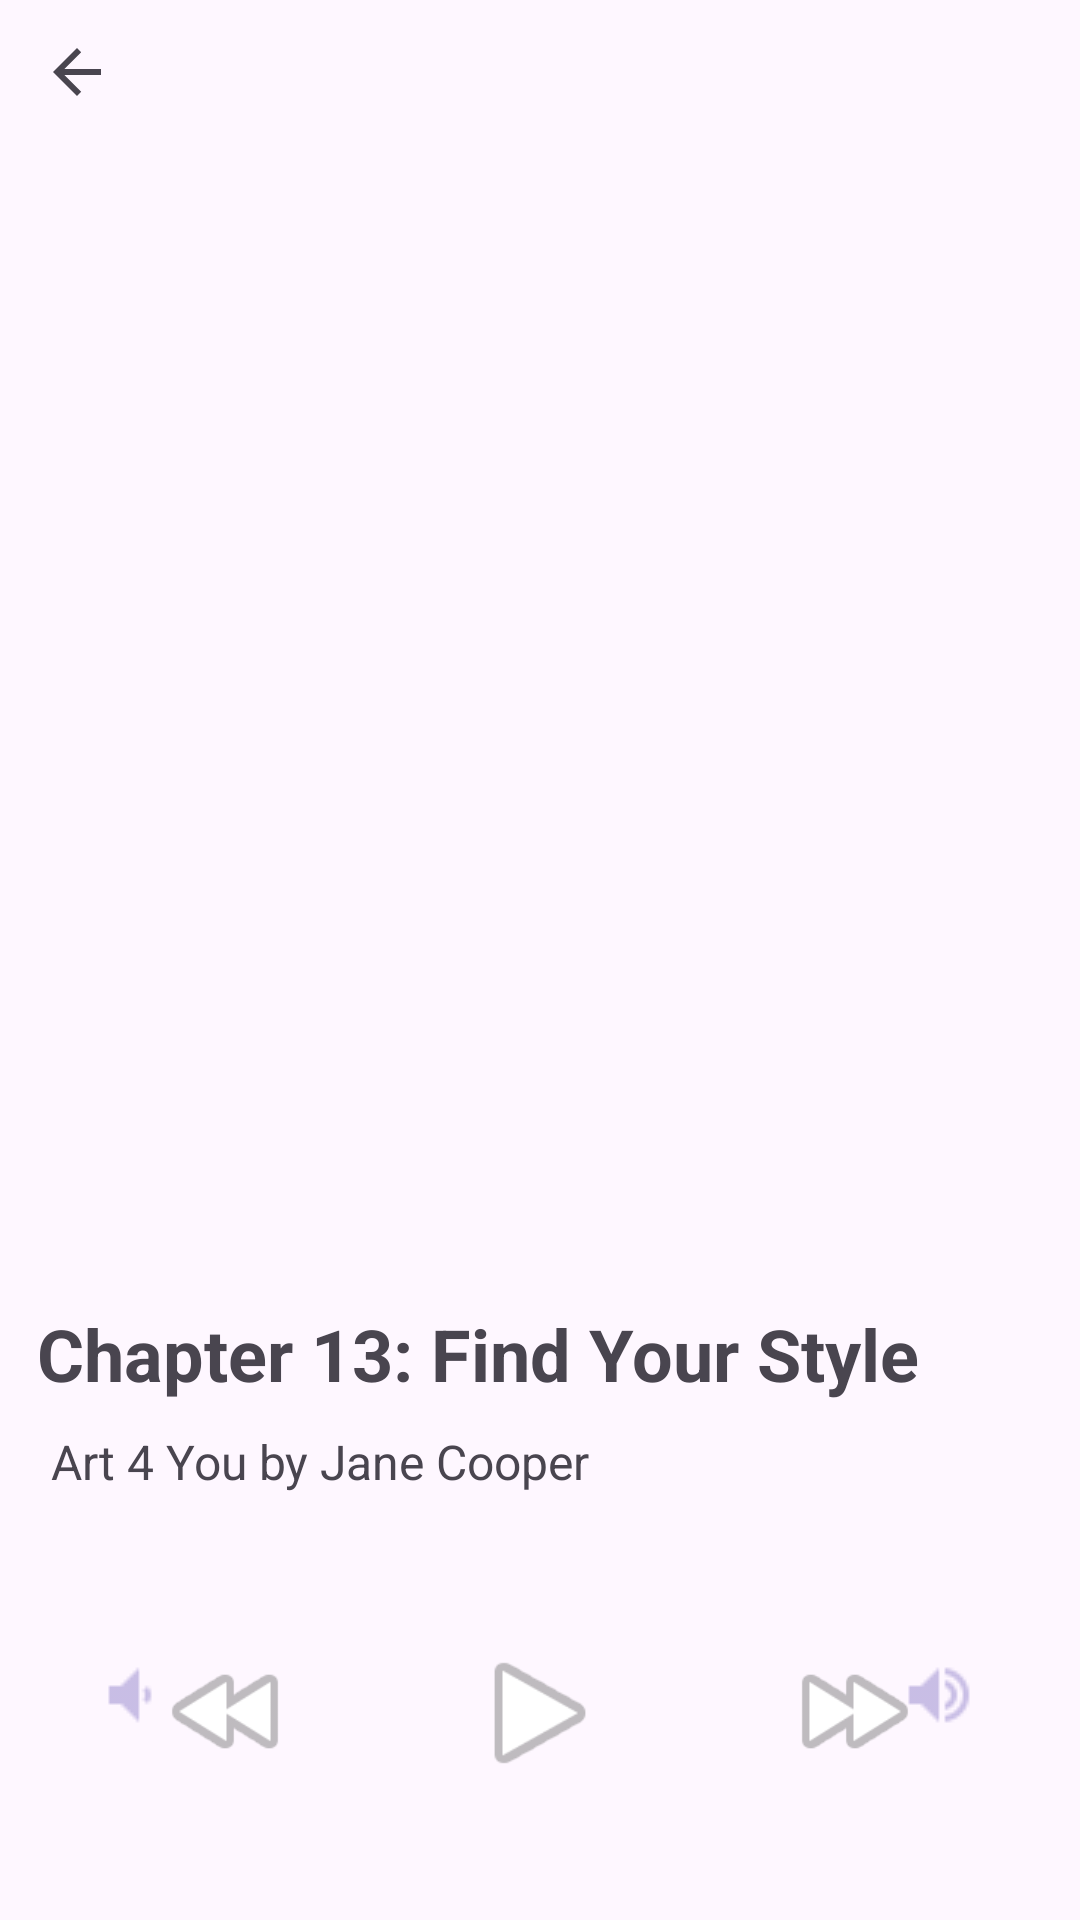

Where icons sit on this 1080px x 1920px app screen, as detection(x1, y1, x2, y2):
play: detection(494, 1663, 586, 1763)
volumedown: detection(109, 1669, 151, 1721)
volumeup: detection(909, 1668, 969, 1722)
